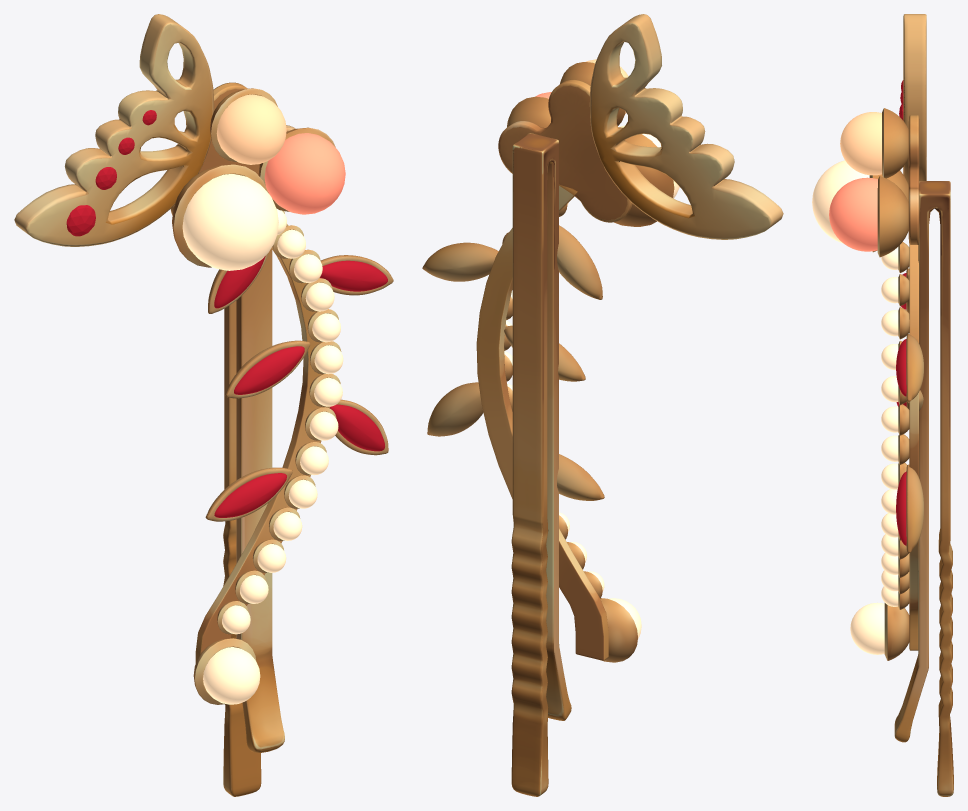
The picture shows the model from 3 angles, left to right: view 1: azimuth 30°, elevation 25°; view 2: azimuth 150°, elevation 25°; view 3: azimuth 270°, elevation 25°; orthographic projection. The views are drawn at different scales.
Parts seen in each view (by area): view 1: hairakuse; view 2: hairakuse; view 3: hairakuse.
Part boxes in pixels (x1=…): hairakuse: x1=14, y1=14, x2=393, y2=796; hairakuse: x1=422, y1=14, x2=783, y2=796; hairakuse: x1=812, y1=14, x2=953, y2=796.
Size of the model in its own units: 72.64 by 152 by 26.6.
